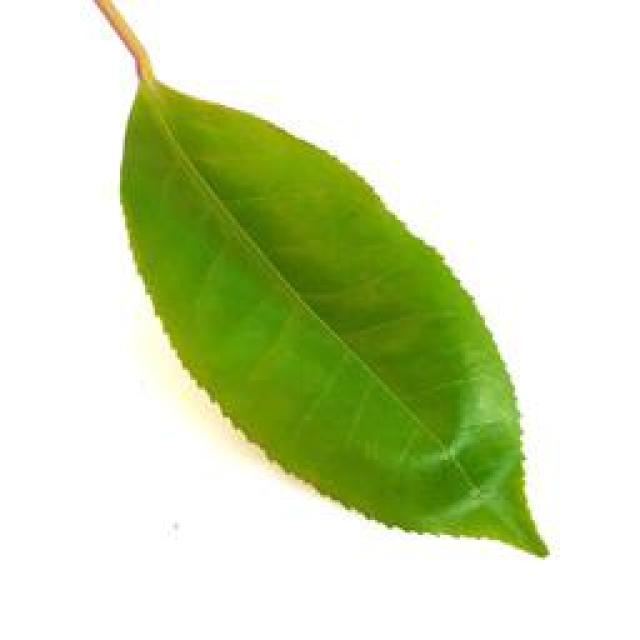Healthy: (80, 66, 551, 551)
